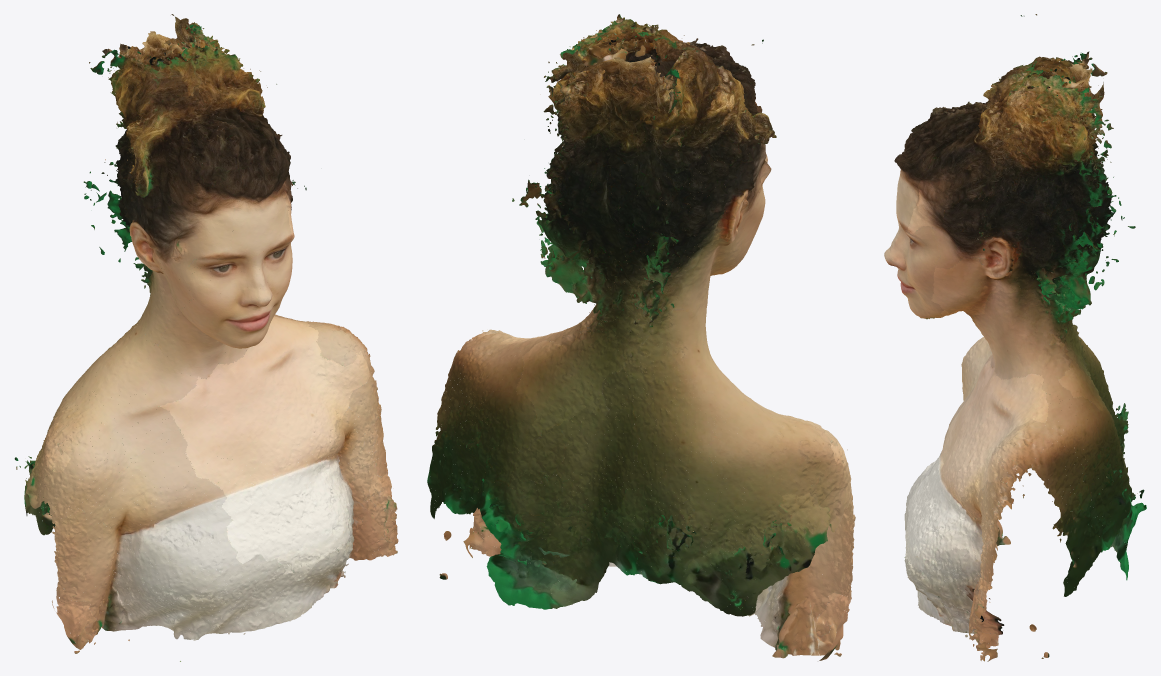
Rendered from 真人头像_女01_opt.glb.
3 renders of one model, left to right at view 1: azimuth 30°, elevation 25°; view 2: azimuth 150°, elevation 25°; view 3: azimuth 270°, elevation 25°, orthographic. The views are drawn at different scales.
Parts seen in each view (by area): view 1: Object_4, Object_3, Object_8, Object_2, Object_5, Object_10, Object_6, Object_9, Object_7, Object_11; view 2: Object_6, Object_7, Object_3, Object_8, Object_4, Object_9, Object_5, Object_10, Object_2, Object_11; view 3: Object_2, Object_9, Object_3, Object_10, Object_8, Object_6, Object_11, Object_4, Object_7, Object_5.
Part boxes in pixels (bbox=[...]): Object_4: bbox=[26, 24, 397, 640]; Object_3: bbox=[14, 27, 391, 644]; Object_8: bbox=[38, 39, 381, 653]; Object_2: bbox=[24, 25, 391, 661]; Object_5: bbox=[25, 42, 398, 641]; Object_10: bbox=[24, 14, 397, 649]; Object_6: bbox=[52, 16, 387, 597]; Object_9: bbox=[26, 37, 385, 590]; Object_7: bbox=[30, 28, 394, 602]; Object_11: bbox=[26, 68, 381, 551]; Object_6: bbox=[436, 19, 855, 599]; Object_7: bbox=[434, 30, 855, 599]; Object_3: bbox=[435, 27, 849, 644]; Object_8: bbox=[427, 21, 841, 656]; Object_4: bbox=[439, 24, 853, 647]; Object_9: bbox=[430, 35, 847, 656]; Object_5: bbox=[436, 35, 853, 658]; Object_10: bbox=[439, 19, 840, 660]; Object_2: bbox=[436, 14, 850, 652]; Object_11: bbox=[442, 37, 782, 608]; Object_2: bbox=[904, 63, 1117, 644]; Object_9: bbox=[914, 15, 1143, 636]; Object_3: bbox=[905, 68, 1146, 634]; Object_10: bbox=[884, 14, 1144, 657]; Object_8: bbox=[916, 60, 1106, 633]; Object_6: bbox=[904, 57, 1115, 648]; Object_11: bbox=[897, 71, 1135, 599]; Object_4: bbox=[894, 52, 1105, 661]; Object_7: bbox=[904, 77, 1128, 651]; Object_5: bbox=[905, 55, 1127, 658].
Bounding box in the file's own units: 0.1949 × 0.3 × 0.1335.
5 materials, 5 textured.
